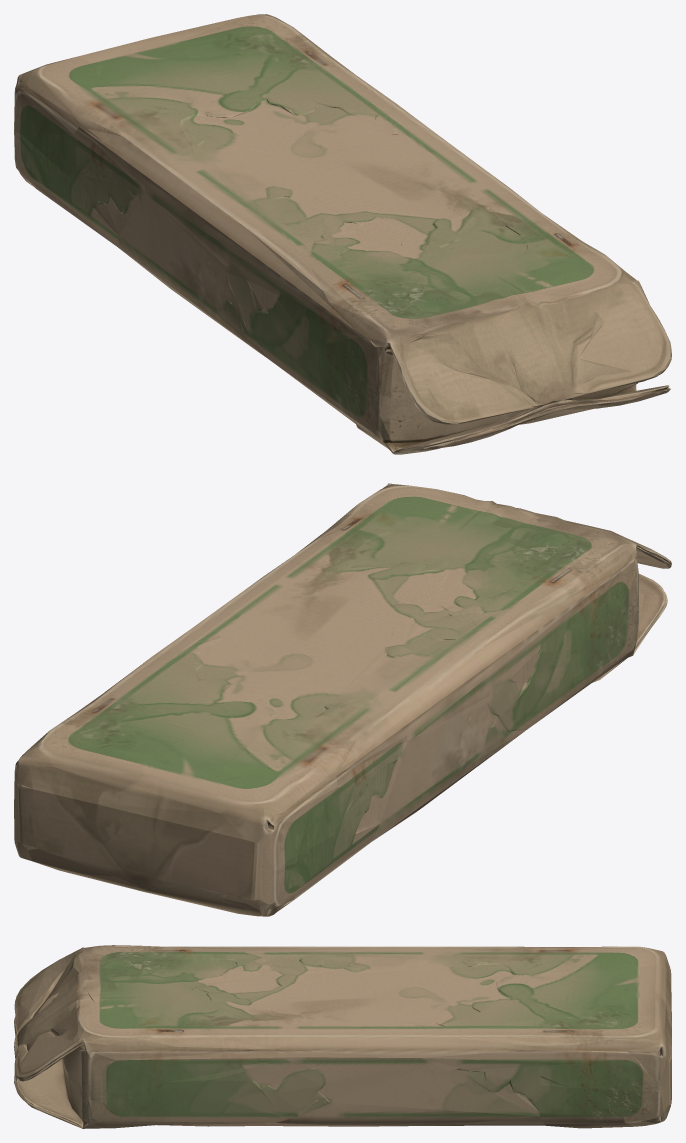
File: scatolone_verde.glb
3 renders of one model, top to bottom at view 1: azimuth 30°, elevation 25°; view 2: azimuth 150°, elevation 25°; view 3: azimuth 270°, elevation 25°, orthographic. The views are drawn at different scales.
Visible parts, largest first — view 1: Mesh_0; view 2: Mesh_0; view 3: Mesh_0.
Part boxes in pixels (x1,y1,x2,y2): Mesh_0: (14, 14, 671, 454); Mesh_0: (14, 483, 671, 916); Mesh_0: (14, 945, 671, 1128).
Bounding box in the file's own units: 0.6952 × 0.3021 × 1.9.
1 material, 1 textured.
